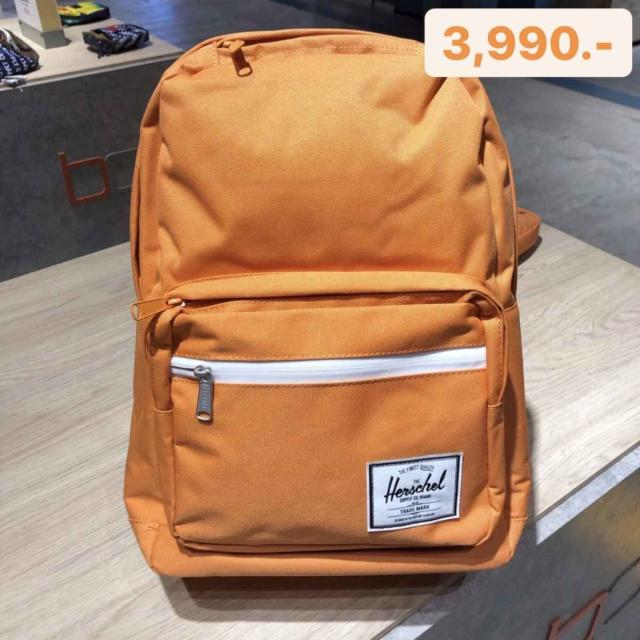Handbag: (129, 16, 522, 576)
